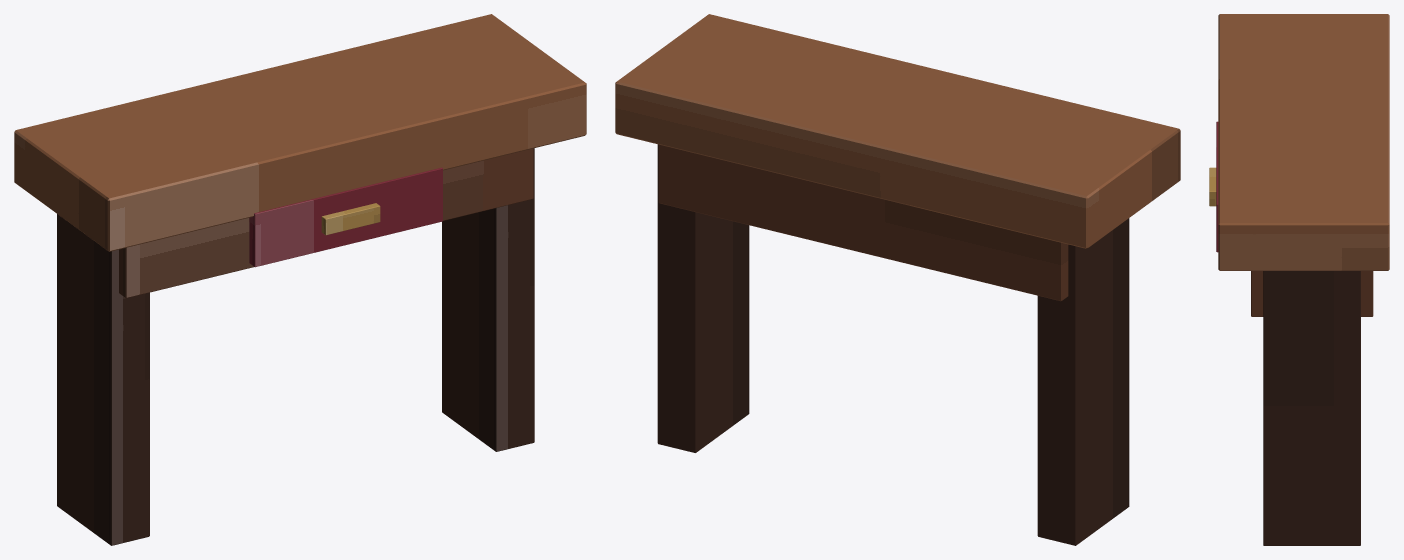
Rendered from mansion_console_table.glb.
3 renders of one model, left to right at view 1: azimuth 30°, elevation 25°; view 2: azimuth 150°, elevation 25°; view 3: azimuth 270°, elevation 25°, orthographic. The views are drawn at different scales.
Visible parts, largest first — view 1: ConsoleTop, ConsoleLeg-0.49, ConsoleLeg0.49, ConsoleApron, ConsoleDrawer, ConsolePull; view 2: ConsoleTop, ConsoleLeg-0.49, ConsoleApron, ConsoleLeg0.49; view 3: ConsoleTop, ConsoleLeg0.49, ConsoleApron, ConsoleDrawer, ConsolePull.
Part boxes in pixels (left/top/right/bottom): ConsoleTop: left=14, top=14, right=586, bottom=251; ConsoleLeg-0.49: left=57, top=214, right=149, bottom=545; ConsoleLeg0.49: left=442, top=148, right=534, bottom=451; ConsoleApron: left=119, top=148, right=533, bottom=298; ConsoleDrawer: left=249, top=167, right=442, bottom=267; ConsolePull: left=321, top=203, right=380, bottom=235; ConsoleTop: left=615, top=14, right=1180, bottom=248; ConsoleLeg-0.49: left=1037, top=218, right=1129, bottom=545; ConsoleApron: left=658, top=144, right=1068, bottom=301; ConsoleLeg0.49: left=657, top=144, right=749, bottom=452; ConsoleTop: left=1218, top=14, right=1389, bottom=270; ConsoleLeg0.49: left=1263, top=271, right=1360, bottom=545; ConsoleApron: left=1251, top=271, right=1373, bottom=316; ConsoleDrawer: left=1216, top=121, right=1218, bottom=252; ConsolePull: left=1209, top=167, right=1216, bottom=206.
Bounding box in the file's own units: 1.22 × 0.905 × 0.442.
1 material, 1 textured.
